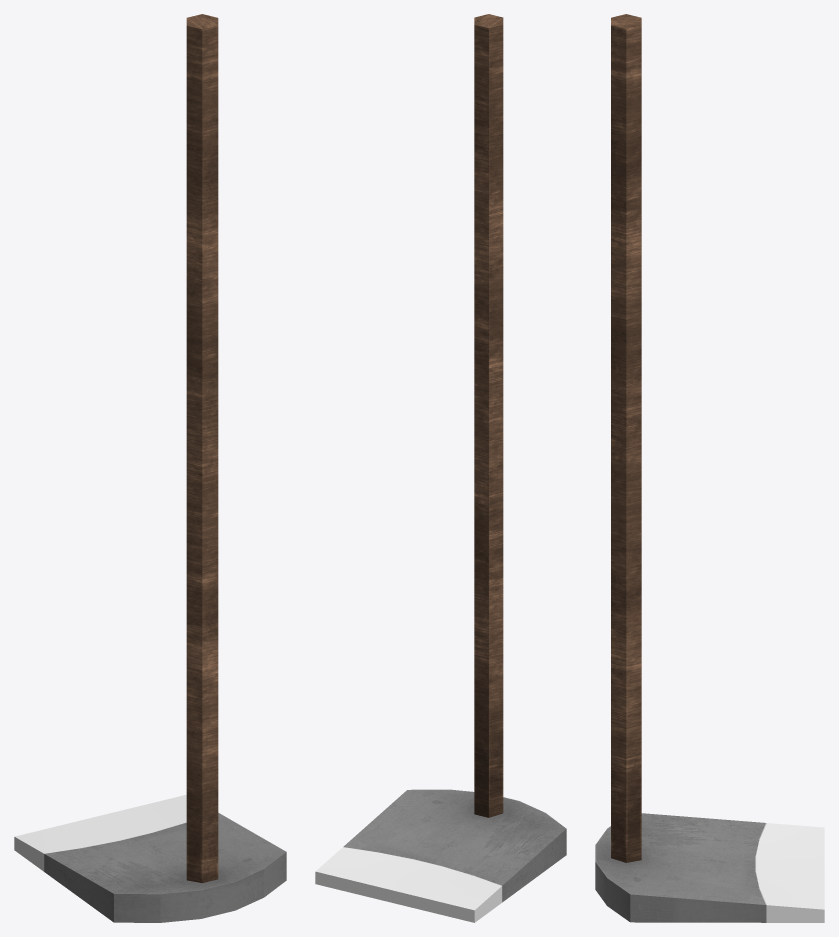
The model's file is Jorb.fbx.
The picture shows the model from 3 angles, left to right: view 1: azimuth 30°, elevation 25°; view 2: azimuth 150°, elevation 25°; view 3: azimuth 270°, elevation 25°; orthographic projection. The views are drawn at different scales.
Visible parts, largest first — view 1: Jorb; view 2: Jorb; view 3: Jorb.
Boxes of the visible parts, x1,y1,x2,y2 form: Jorb: [14, 14, 286, 922]; Jorb: [315, 14, 566, 922]; Jorb: [595, 14, 824, 922].
Size of the model in its own units: 1 by 4.88 by 1.18.
